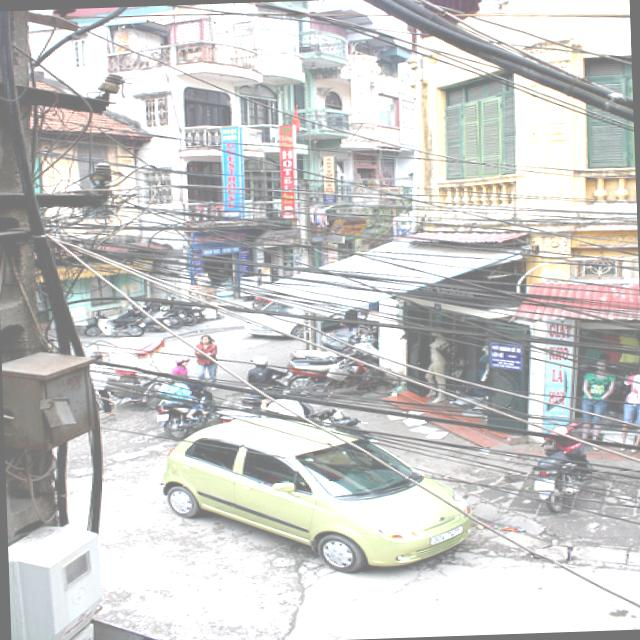Vehicle: (166, 414, 482, 577), (528, 419, 596, 516), (286, 348, 386, 392), (262, 393, 360, 432), (156, 400, 223, 440), (240, 373, 318, 406), (243, 300, 308, 338), (114, 298, 176, 334), (80, 309, 148, 340), (171, 305, 205, 326)
